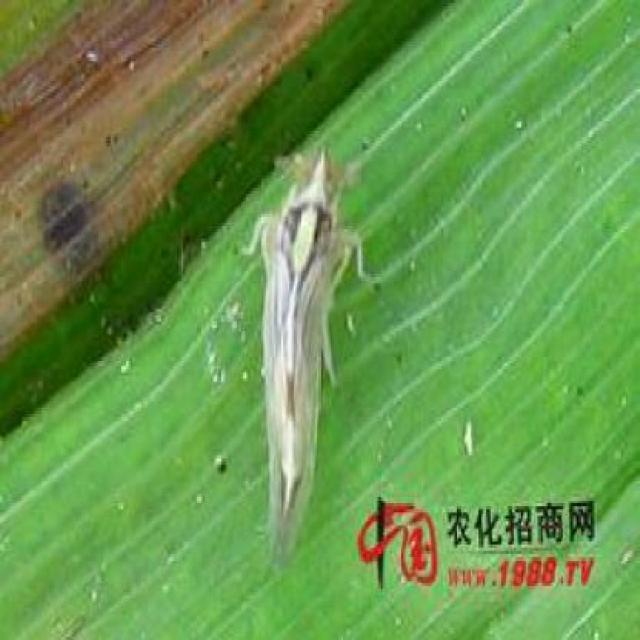brown-planthopper: (243, 148, 352, 574)
